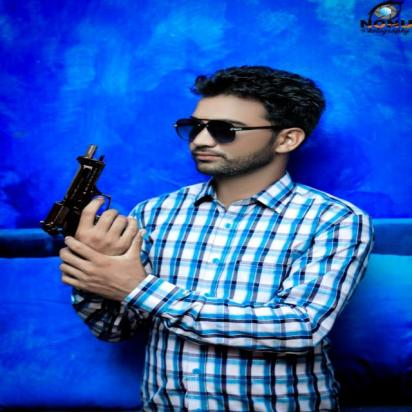Gun: (37, 142, 141, 250)
